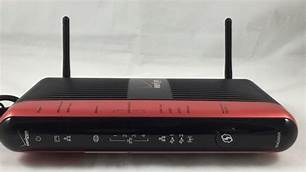Verizon Router: (3, 8, 301, 159)
